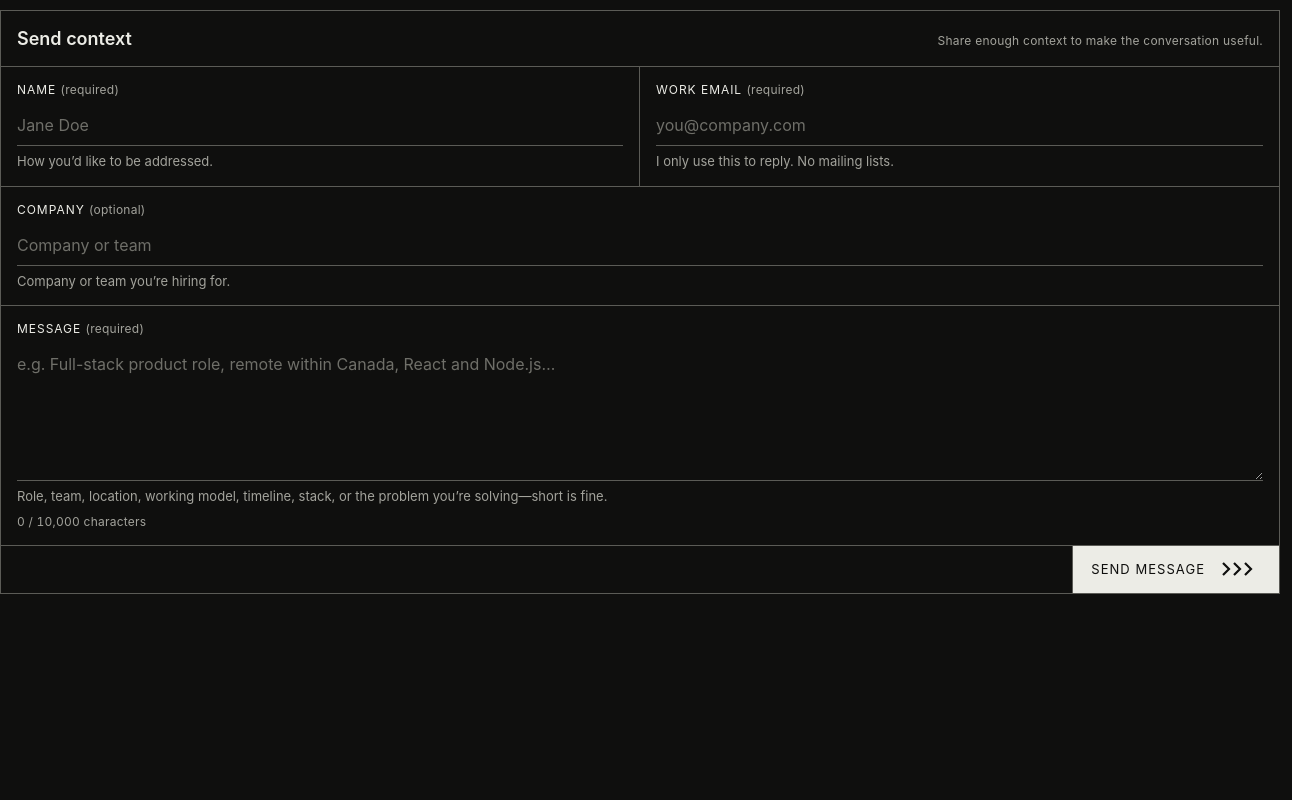
Scenario: ContactForm › should show validation error when message is empty
Type "Jane" into the field labelled "Name (required)". click: (320, 126)
box: x1=17 y1=105 x2=623 y2=146
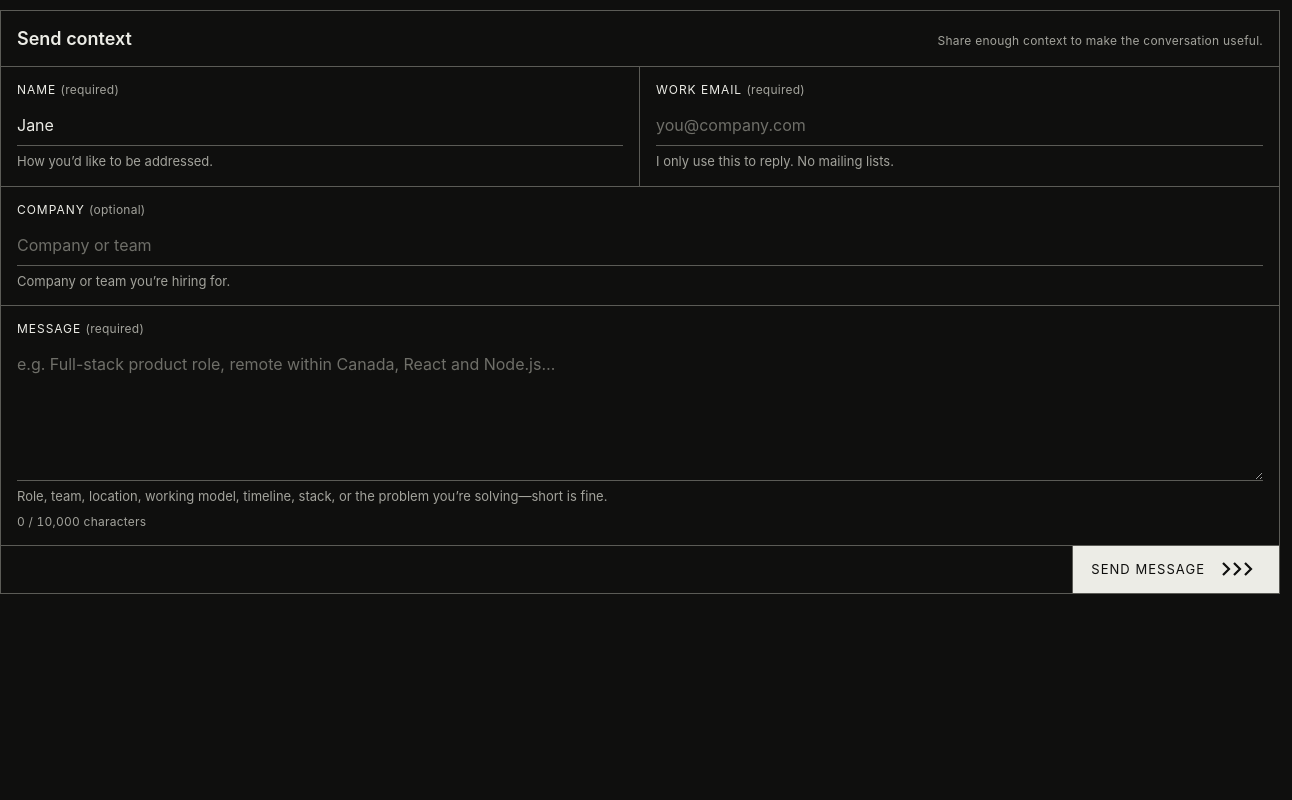
Type "jane@example.com" into the field labelled "Work email (required)". click: (960, 126)
box: x1=656 y1=105 x2=1263 y2=146
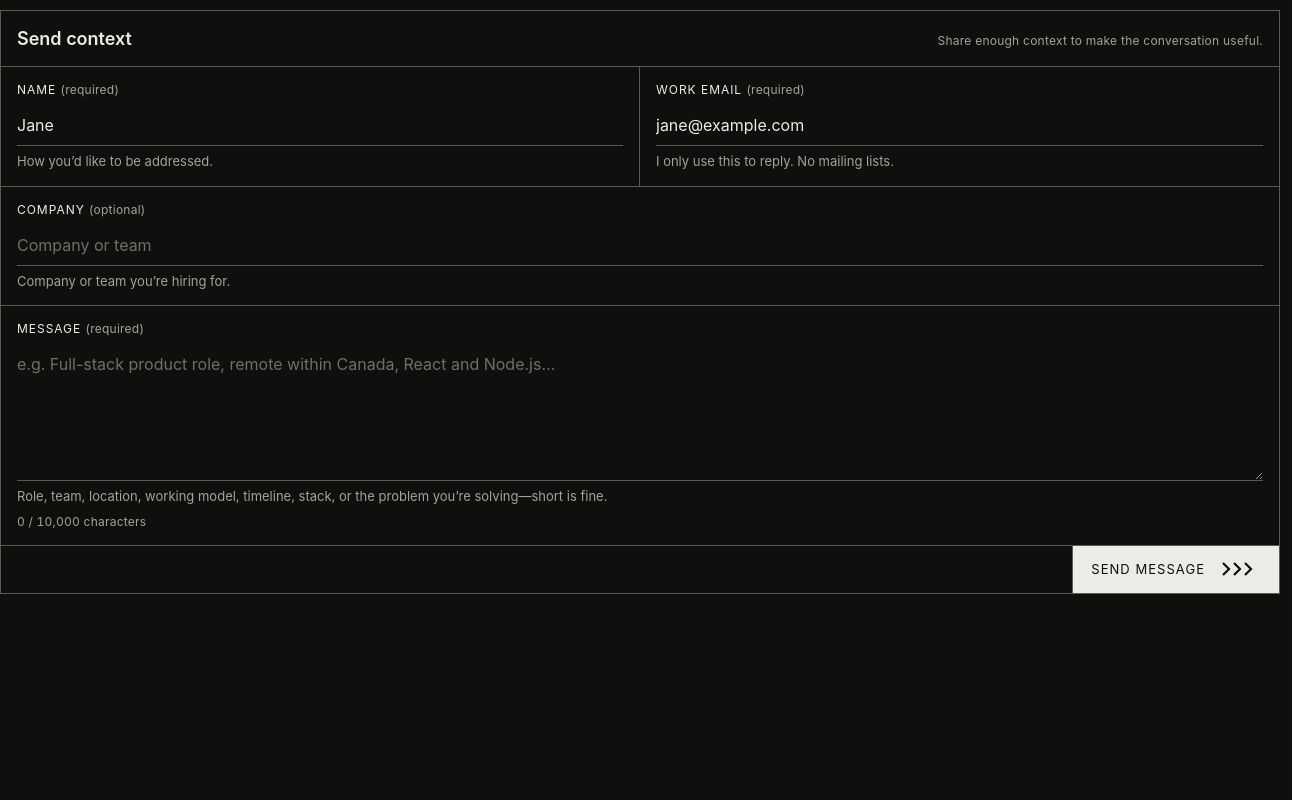
Click the button "Send message". click: click(1176, 569)
box: x1=1072 y1=546 x2=1279 y2=593
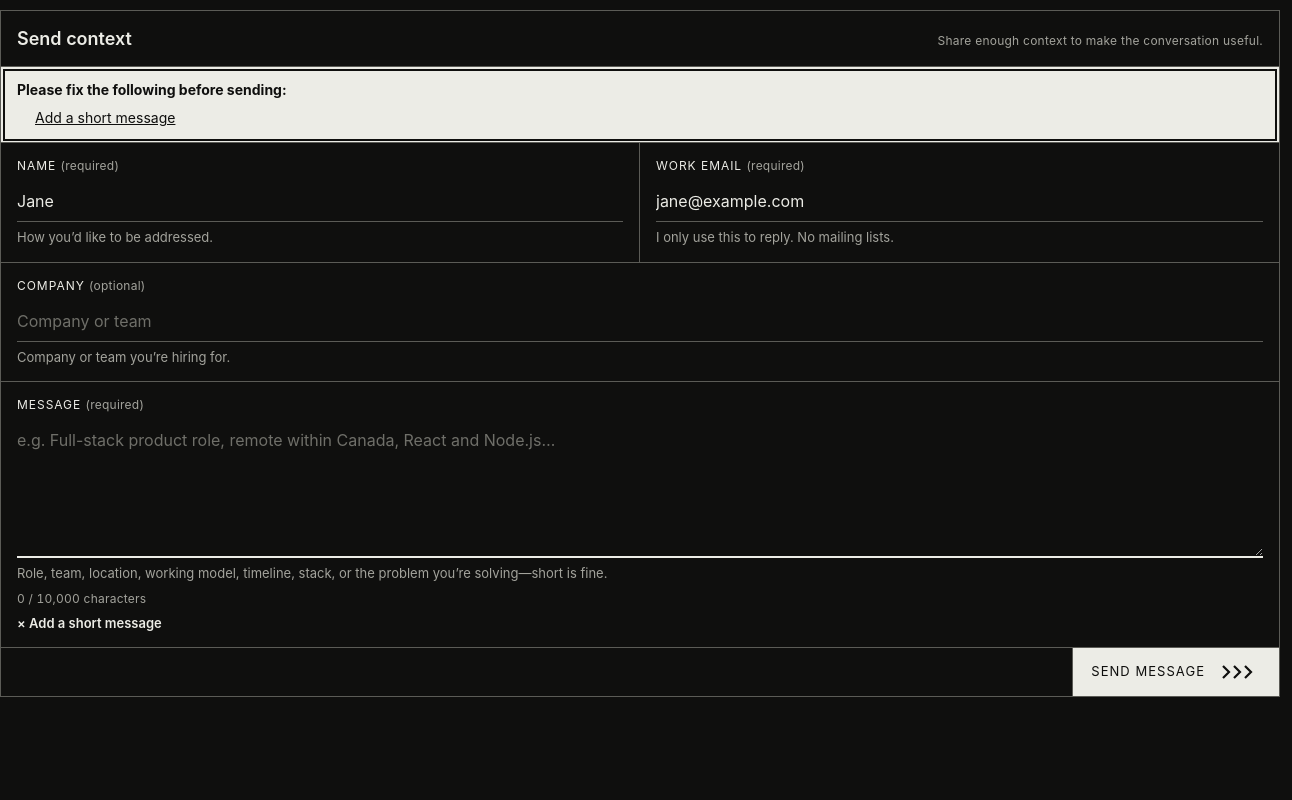
Expected: the link "Add a short message" is shown, x1=35 y1=106 x2=175 y2=130
